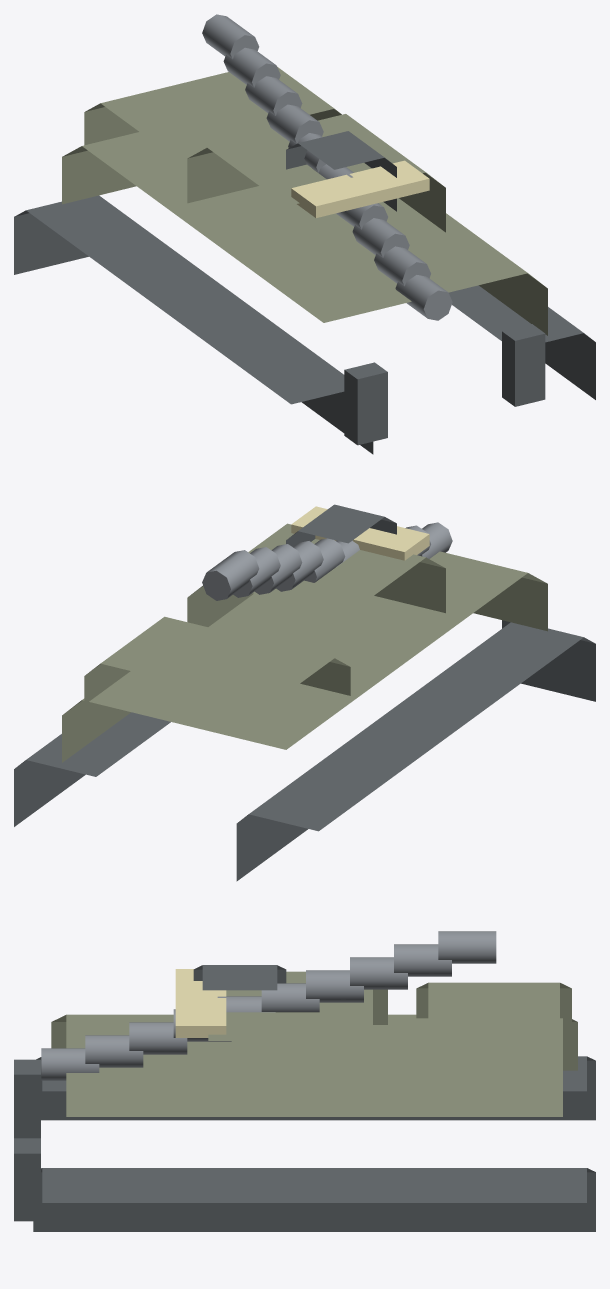
The model's file is artillery_vehicle.glb.
3 views of the same model, one above another, from view 1: azimuth 30°, elevation 25°; view 2: azimuth 150°, elevation 25°; view 3: azimuth 270°, elevation 25° (orthographic). The views are drawn at different scales.
Parts seen in each view (by area): view 1: Body, Turret; view 2: Body, Turret; view 3: Body, Turret.
Boxes of the visible parts, x1=… form: Body: x1=14, y1=67, x2=595, y2=454; Turret: x1=187, y1=14, x2=452, y2=320; Body: x1=14, y1=551, x2=595, y2=881; Turret: x1=187, y1=504, x2=452, y2=626; Body: x1=14, y1=982, x2=595, y2=1231; Turret: x1=41, y1=931, x2=496, y2=1080.
Size of the model in its own units: 2.44 by 1.96 by 3.89.
